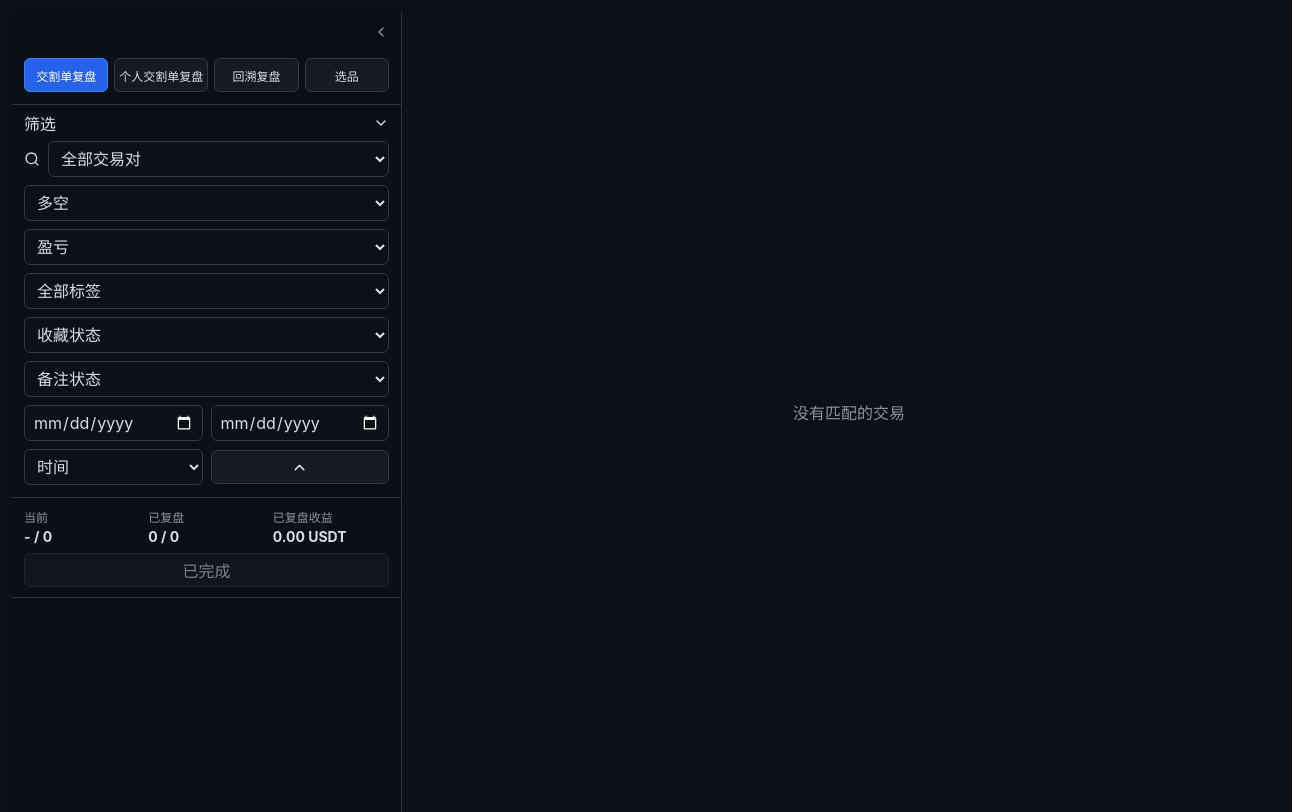
Scenario: Bitget review module › shows the key setup form before a key is configured
Click the button "个人交割单复盘" at (161, 75), box [114,58,208,92]
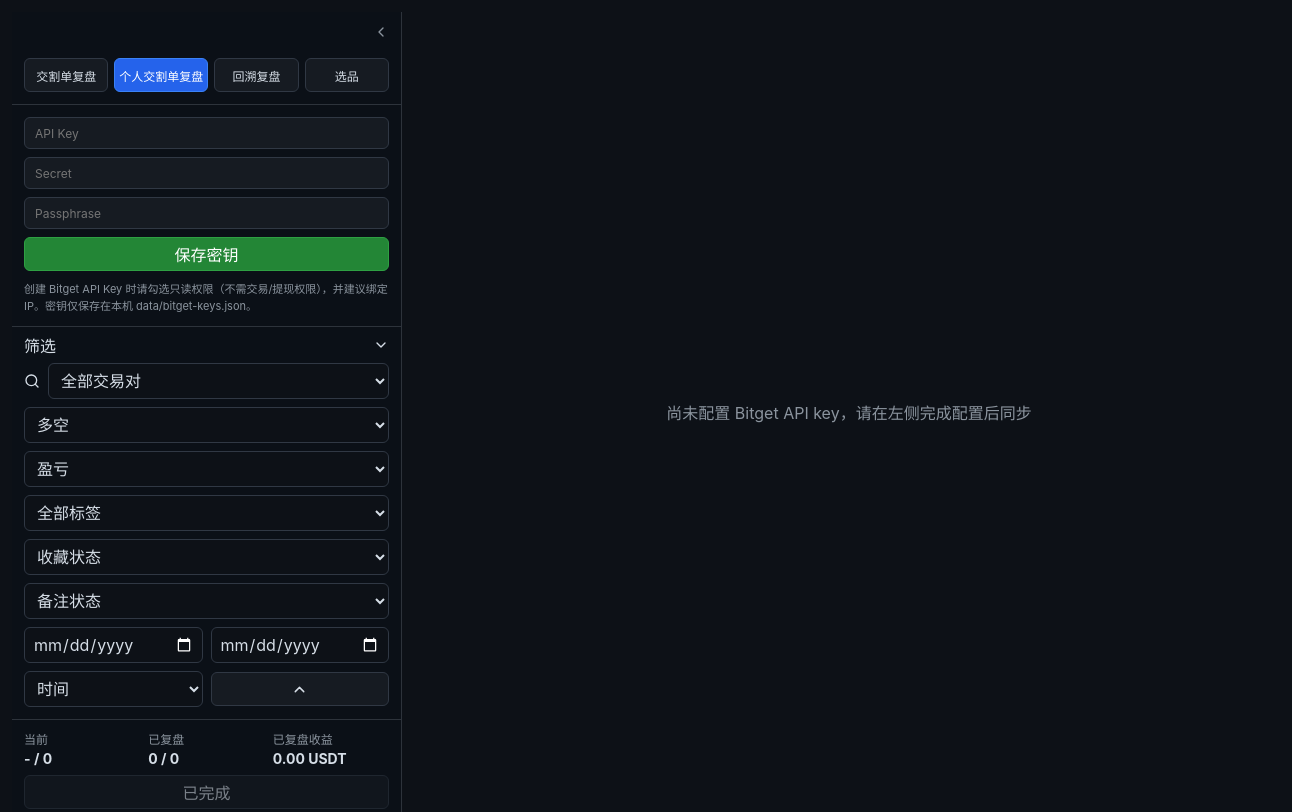
Expected: the field with placeholder "API Key" is shown, [24,117,389,149]
Expected: the password field with placeholder "Secret" is shown, [24,157,389,189]
Expected: the password field with placeholder "Passphrase" is shown, [24,197,389,229]
